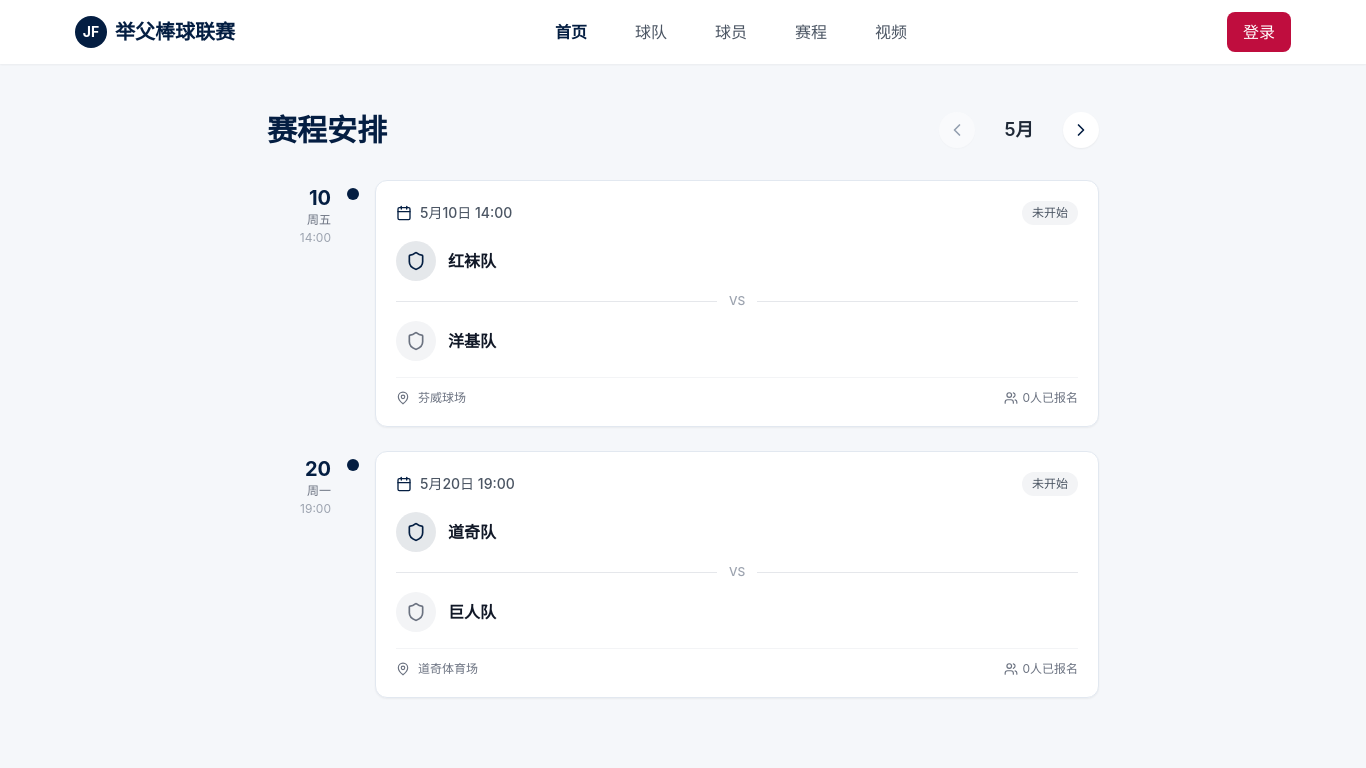
Test: GameSchedulePage › filters games by month using navigation buttons
Expected: the text "小熊队" is not shown
Note:  点击下个月按钮
Click the button named "下个月".
click(1081, 130)  # box [1063,112,1099,148]
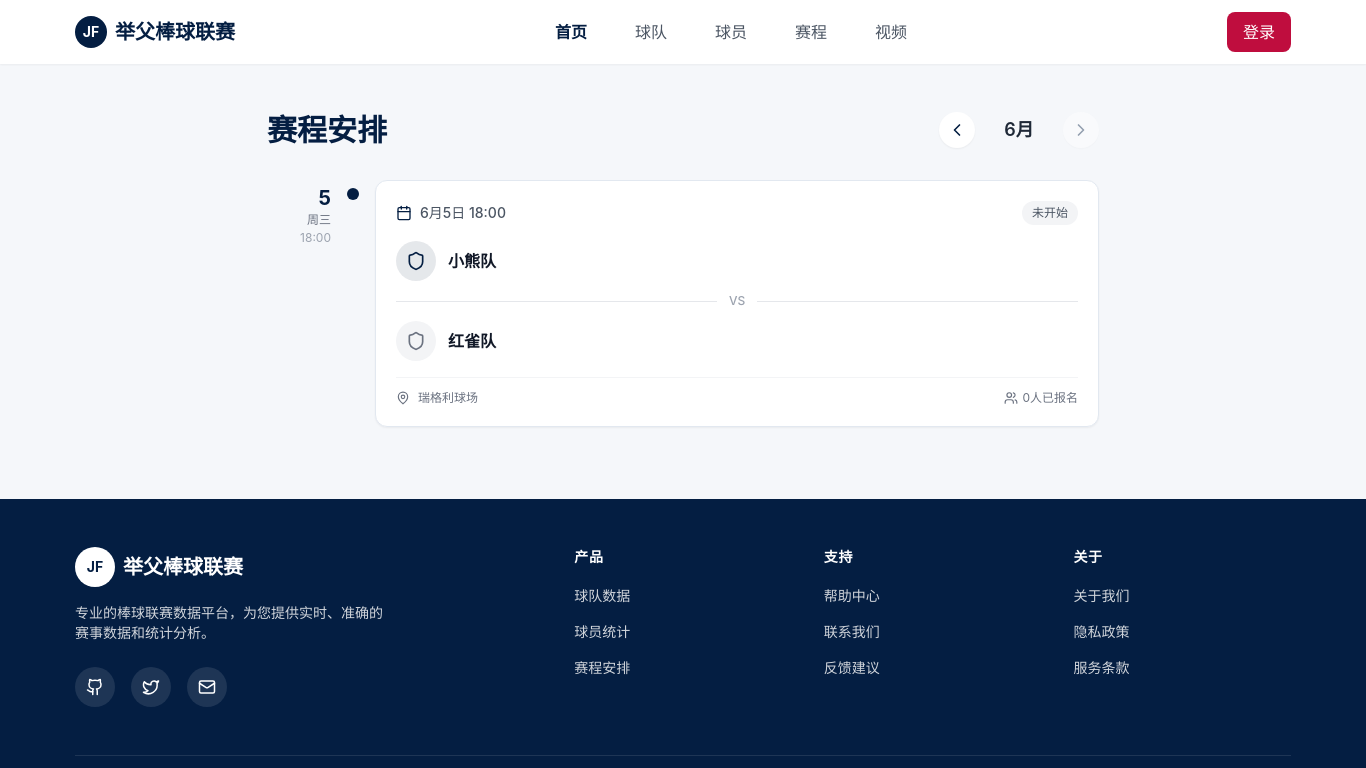
Expected: the text "6月" is shown, [1004,119,1034,140]
Expected: the text "小熊队" is shown, [448,249,496,273]
Expected: the link "红袜队" is gone
